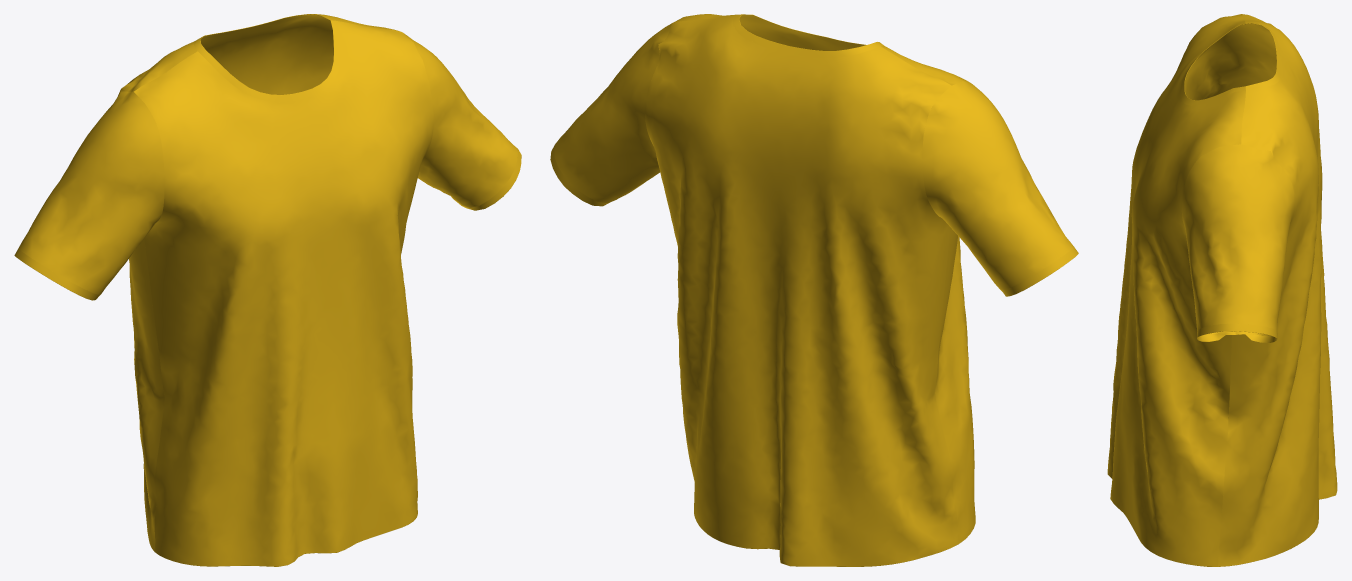
Rendered from t-shirt_yellow.glb.
3 views of the same model, side by side, from view 1: azimuth 30°, elevation 25°; view 2: azimuth 150°, elevation 25°; view 3: azimuth 270°, elevation 25° (orthographic). The views are drawn at different scales.
Visible parts, largest first — view 1: node_id6, node_id9; view 2: node_id6, node_id9; view 3: node_id6, node_id9, node_id12.
Boxes of the visible parts, x1,y1,x2,y2 form: node_id6: [14, 14, 521, 566]; node_id9: [200, 14, 333, 94]; node_id6: [550, 14, 1078, 566]; node_id9: [739, 15, 865, 50]; node_id6: [1107, 14, 1337, 566]; node_id9: [1184, 23, 1276, 342]; node_id12: [1118, 23, 1325, 566].
Size of the model in its own units: 0.6154 by 0.5761 by 0.2605.
3 materials, 3 textured.
